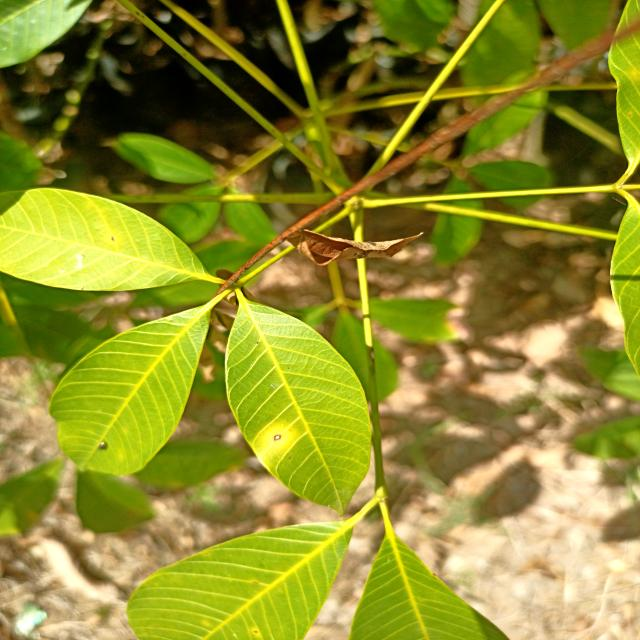Colletotrichum: (274, 434, 281, 440)
